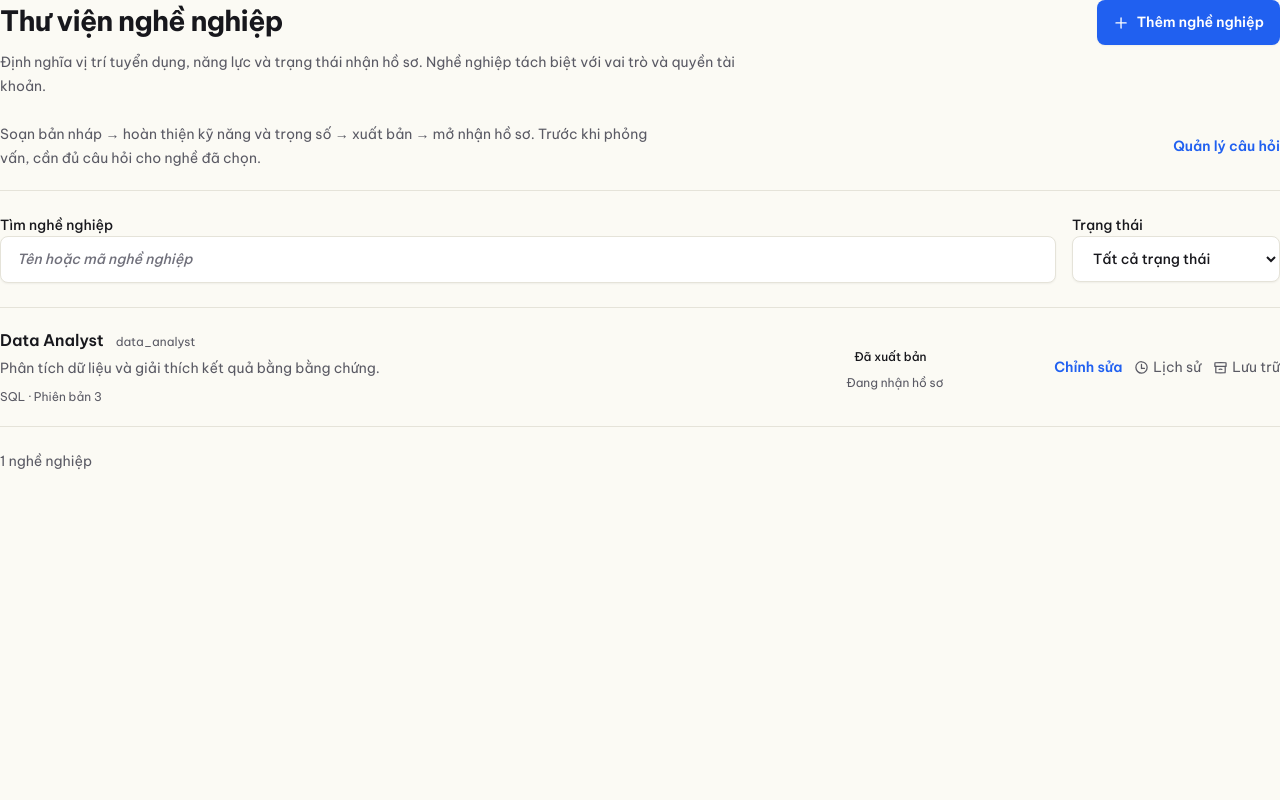
Scenario: edits with the server version and retains a failed draft on conflict
Check: the heading "Data Analyst" is shown, box [0,328,104,352]
Step 1. Click the button with aria-label "Chỉnh sửa Data Analyst" → (1088, 367), box [1054,356,1122,378]
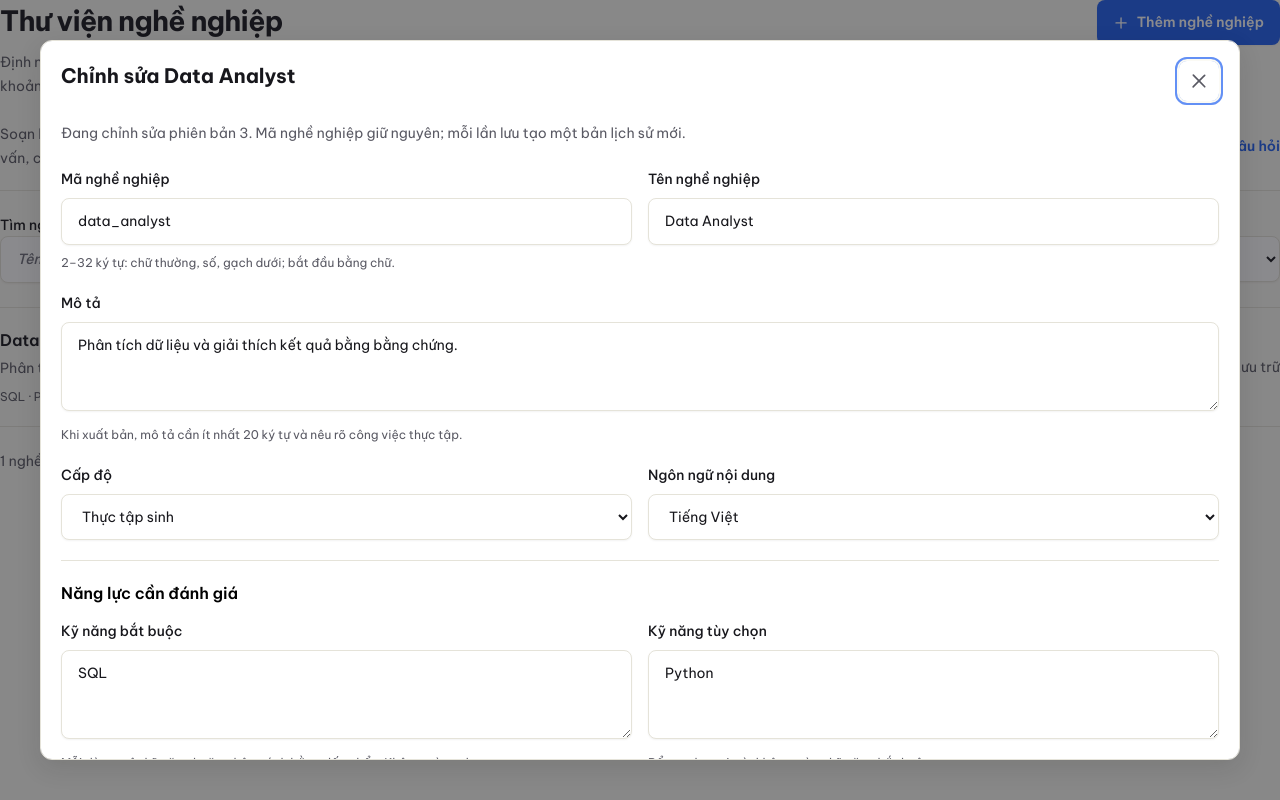
Step 2. Replace the text in the field labelled "Tên nghề nghiệp" with "Tên đang soạn" → (934, 222), box [648,198,1219,245]
(page scrolled)
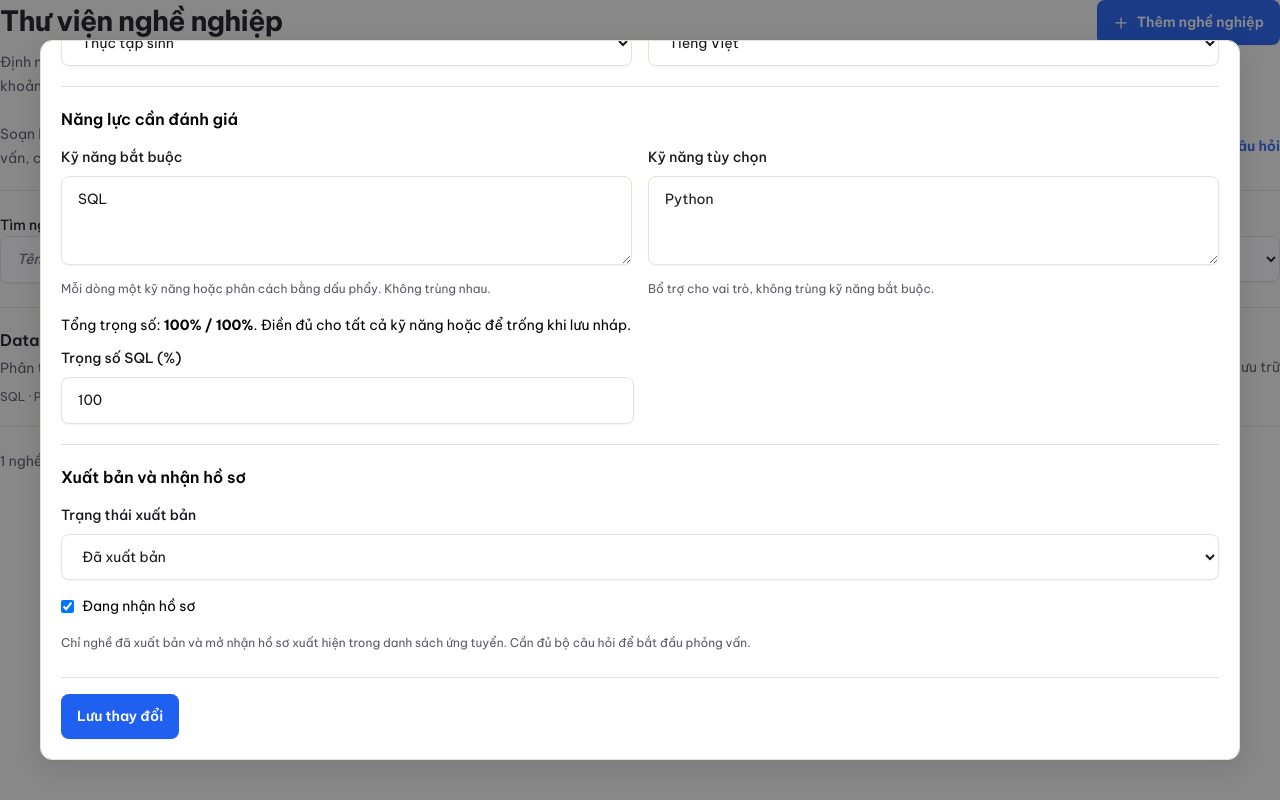
Step 3. Click the checkbox labelled "Đang nhận hồ sơ" → (68, 606), box [61,600,74,613]
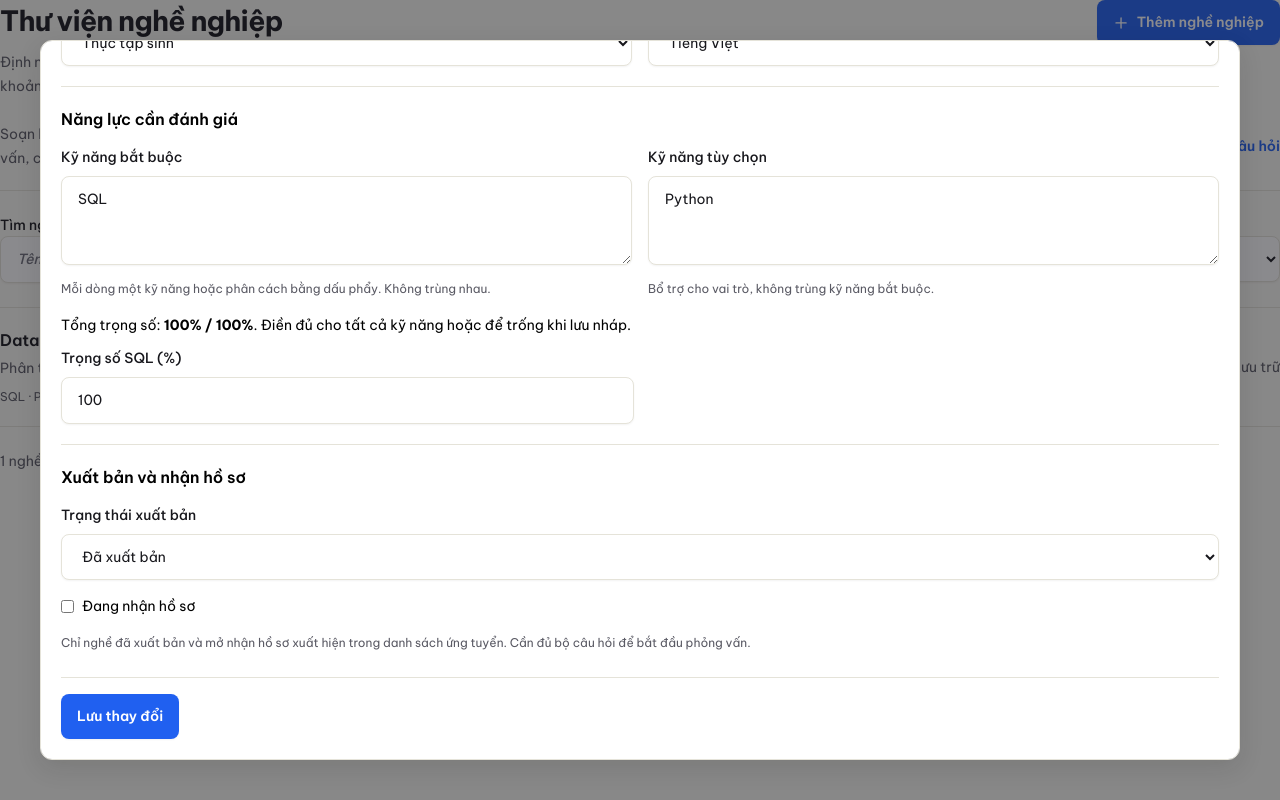
Step 4. Click the button "Lưu thay đổi" → (120, 716), box [61,694,179,739]
(page scrolled)
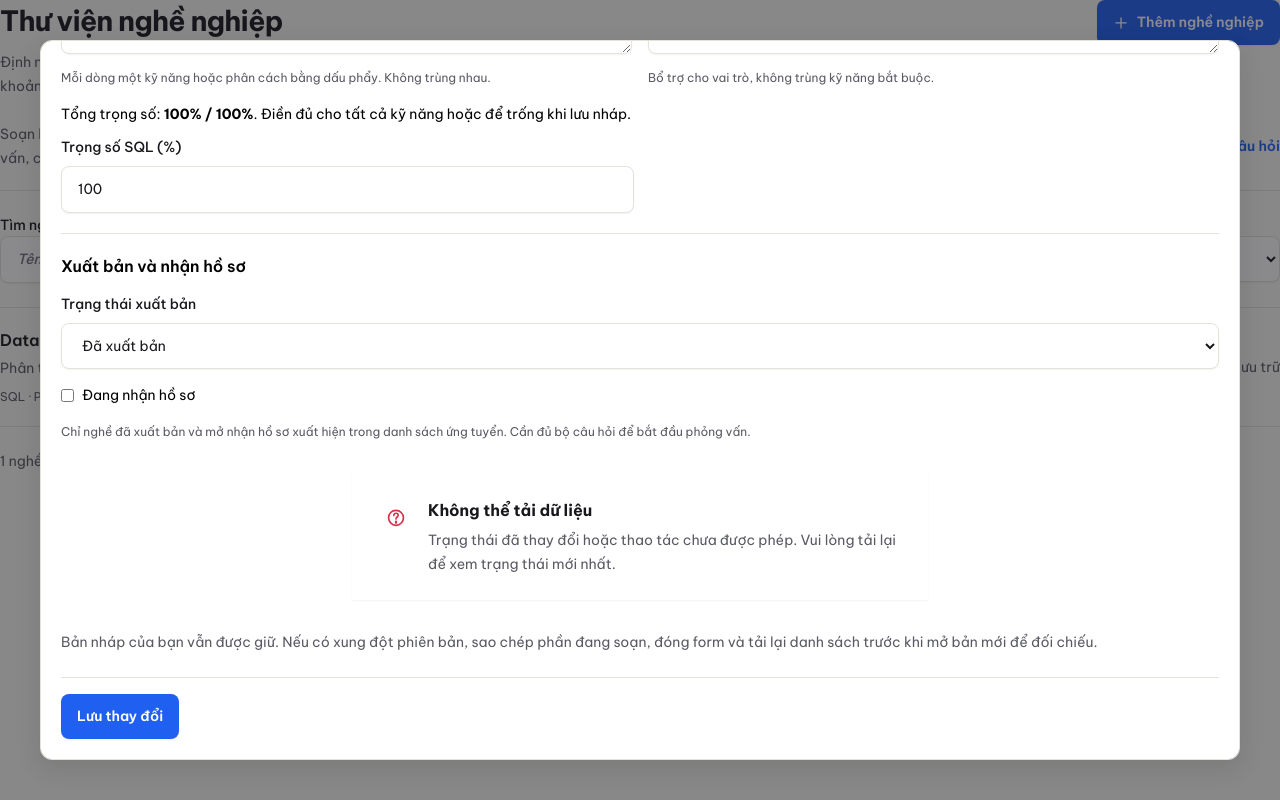
Check: the message is shown, box [352,474,928,600]
Check: the text "Bản nháp của bạn vẫn được giữ" is shown, box [61,633,1097,651]
